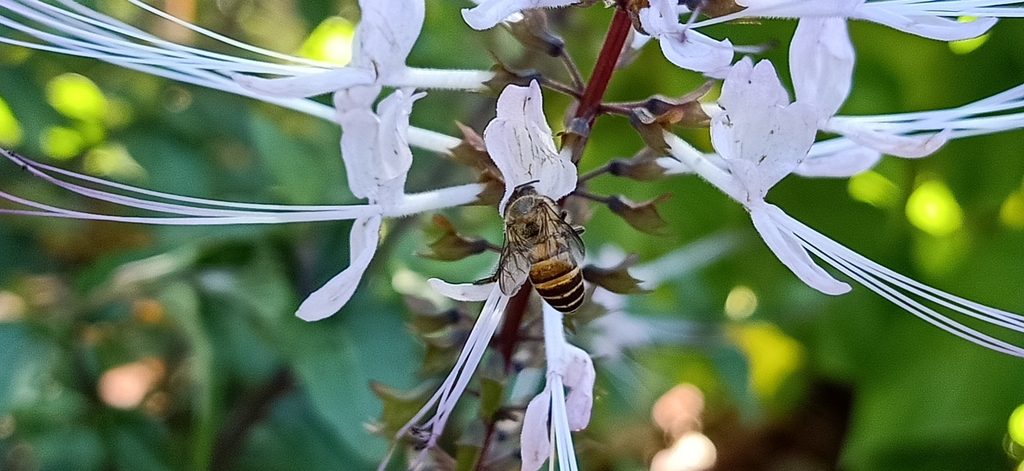honeybee: (473, 179, 586, 314)
